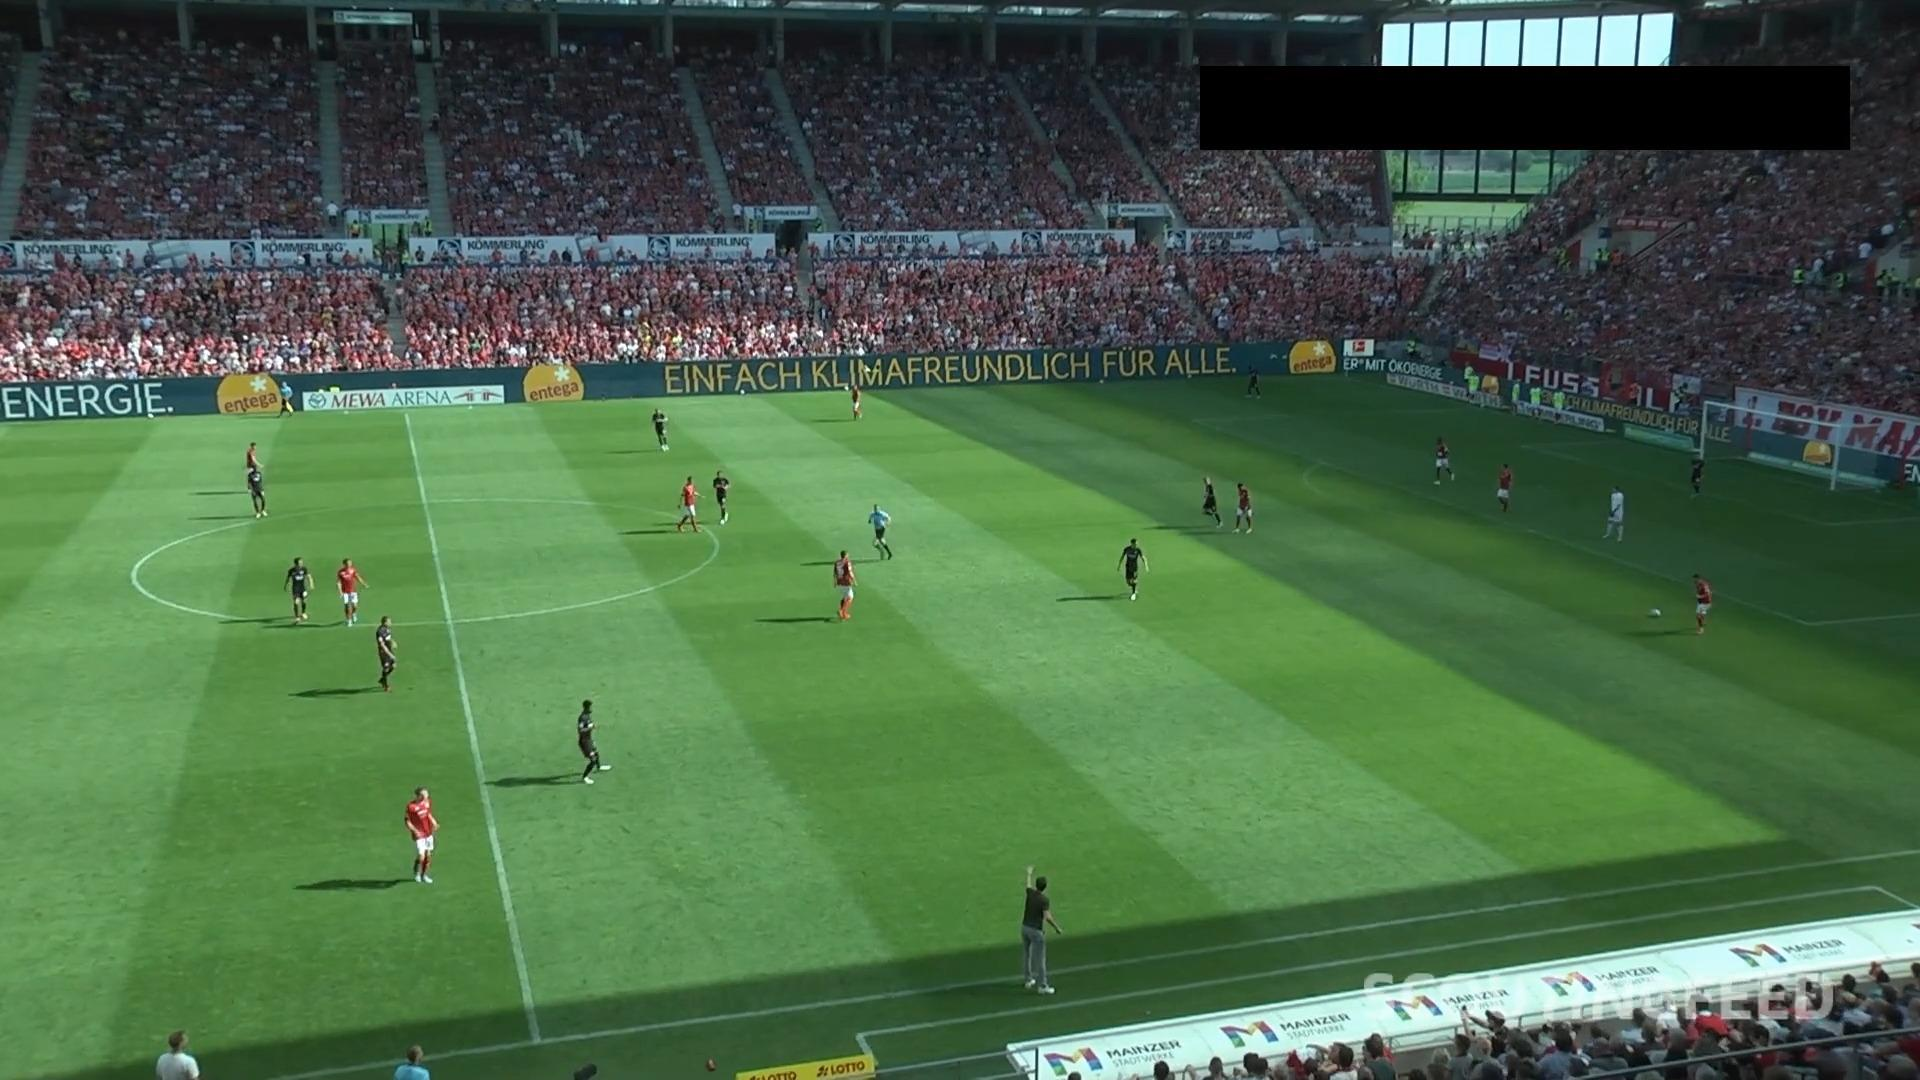ball: (1648, 608, 1662, 617)
